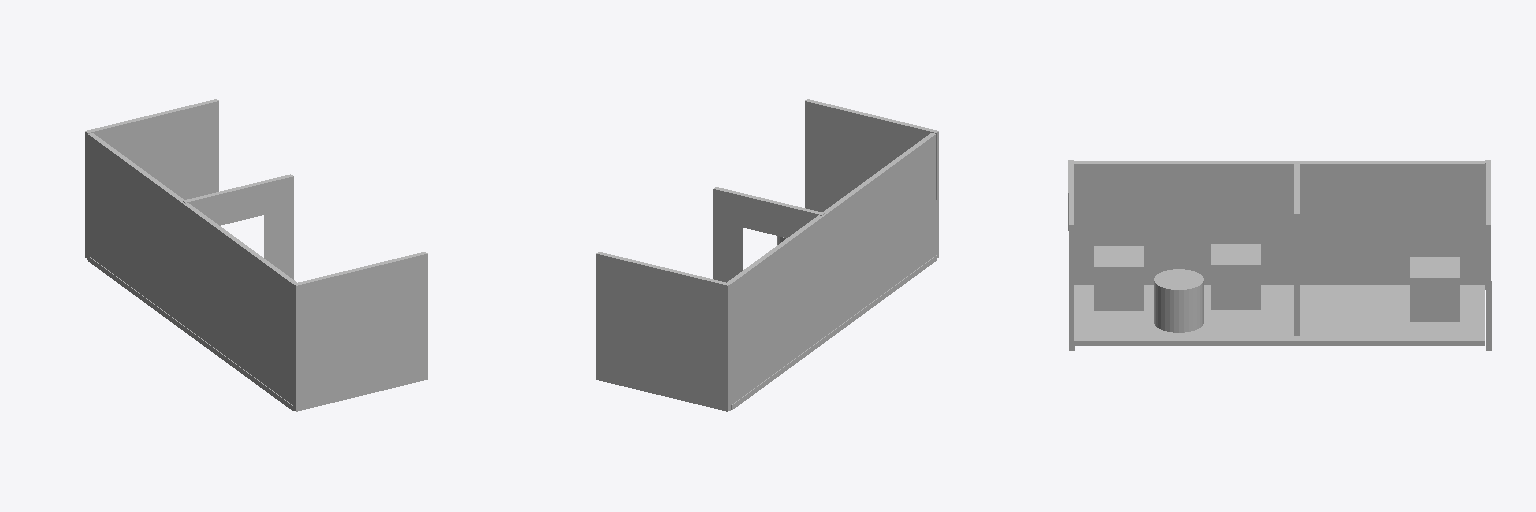
Rendered from deluxroom.obj.
The picture shows the model from 3 angles: view 1: azimuth 30°, elevation 25°; view 2: azimuth 150°, elevation 25°; view 3: azimuth 270°, elevation 25°; orthographic projection.
Visible parts, largest first — view 1: Cube.001, Cube.003, Cube.002, Cube.004, Cube; view 2: Cube.001, Cube.002, Cube.003, Cube.004, Cube; view 3: Cube.001, Cube, Cube.007, Cube.005, Cube.006, Cylinder, Cube.004, Cube.003, Cube.002.
Part boxes in pixels (bbox=[...]): Cube.001: bbox=[87, 133, 296, 410]; Cube.003: bbox=[293, 252, 427, 411]; Cube.002: bbox=[85, 99, 218, 258]; Cube.004: bbox=[183, 174, 293, 279]; Cube: bbox=[88, 256, 292, 410]; Cube.001: bbox=[727, 133, 935, 410]; Cube.002: bbox=[596, 252, 730, 411]; Cube.003: bbox=[805, 99, 938, 257]; Cube.004: bbox=[713, 187, 824, 282]; Cube: bbox=[731, 255, 936, 409]; Cube.001: bbox=[1074, 161, 1485, 289]; Cube: bbox=[1074, 285, 1484, 345]; Cube.007: bbox=[1211, 244, 1260, 309]; Cube.005: bbox=[1410, 257, 1459, 321]; Cube.006: bbox=[1094, 246, 1143, 310]; Cylinder: bbox=[1154, 269, 1203, 332]; Cube.004: bbox=[1294, 161, 1299, 335]; Cube.003: bbox=[1068, 160, 1074, 350]; Cube.002: bbox=[1485, 160, 1491, 350].
Bounding box in the file's own units: 6.15 × 5.64 × 17.02.